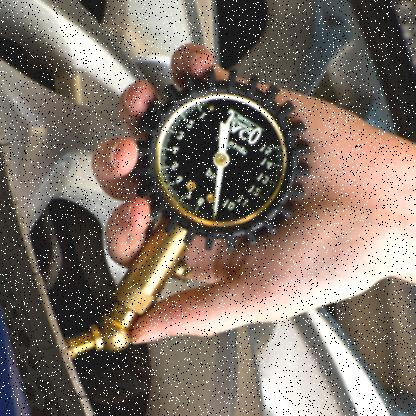needle: (213, 167, 225, 221)
